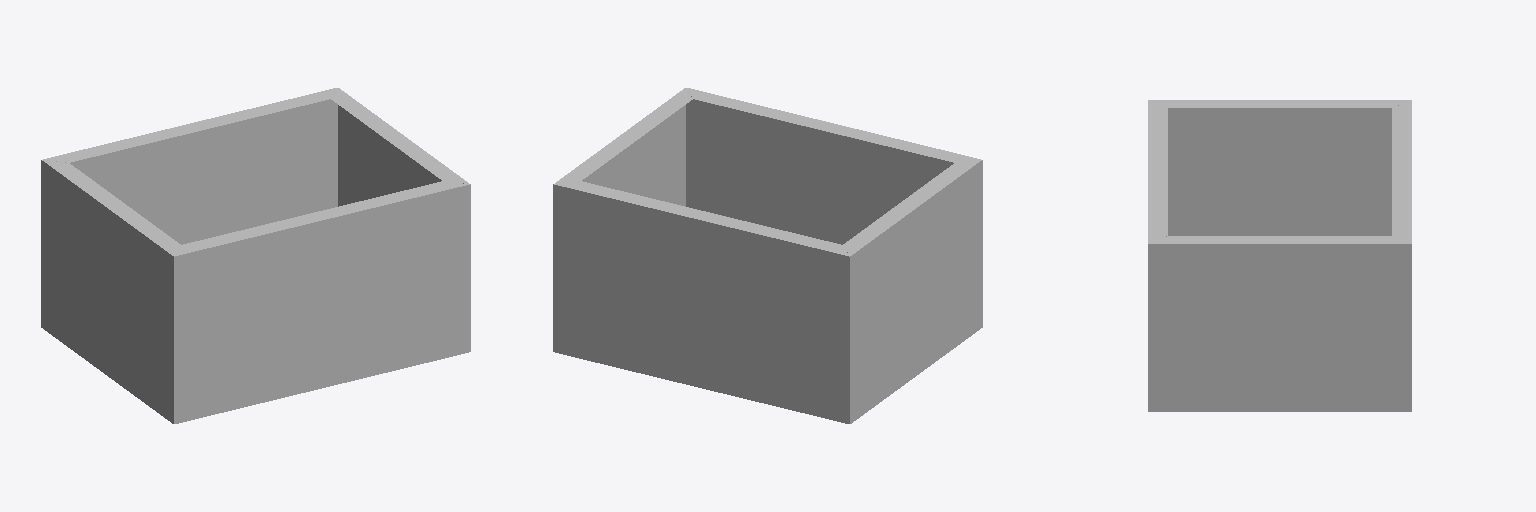
File: Cofreabaj.obj
3 views of the same model, side by side, from view 1: azimuth 30°, elevation 25°; view 2: azimuth 150°, elevation 25°; view 3: azimuth 270°, elevation 25° (orthographic).
Visible parts, largest first — view 1: Big_Treasure_Chest:front1wood1, Big_Treasure_Chest:front1; view 2: Big_Treasure_Chest:front1wood1, Big_Treasure_Chest:front1; view 3: Big_Treasure_Chest:front1wood1, Big_Treasure_Chest:front1.
Part boxes in pixels (x1,y1,x2,y2): Big_Treasure_Chest:front1wood1: (41, 88, 468, 423); Big_Treasure_Chest:front1: (174, 181, 470, 423); Big_Treasure_Chest:front1wood1: (553, 88, 982, 423); Big_Treasure_Chest:front1: (686, 88, 980, 252); Big_Treasure_Chest:front1wood1: (1148, 100, 1411, 411); Big_Treasure_Chest:front1: (1148, 100, 1167, 243).
Size of the model in its own units: 1.92 by 1.04 by 1.48.